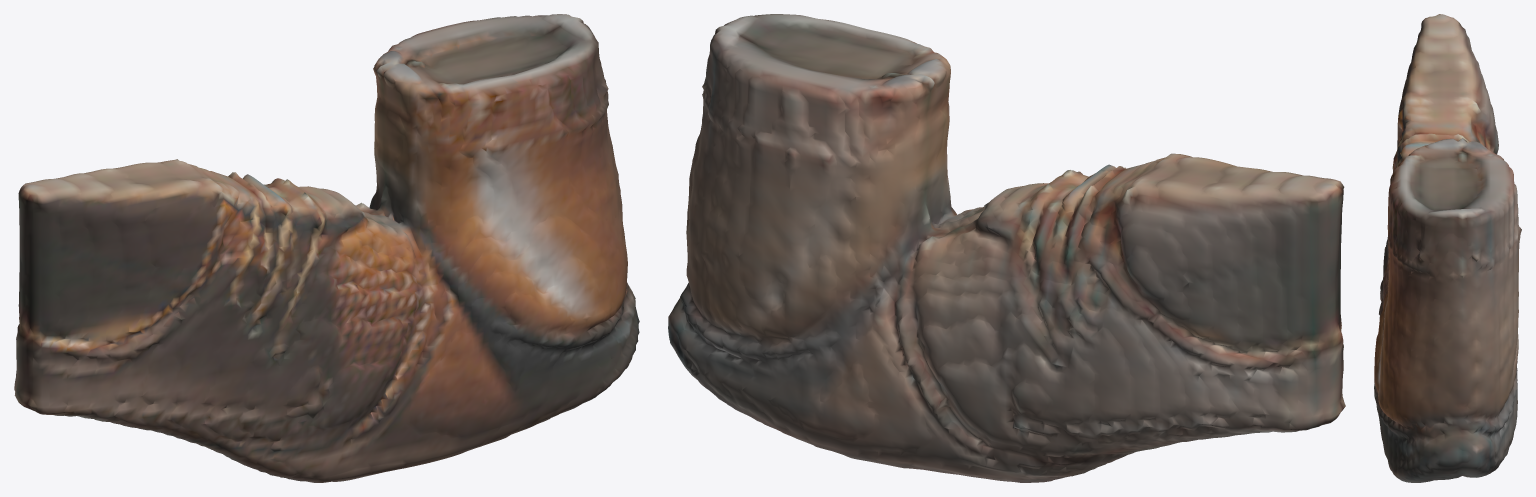
The model's file is art-008.glb.
3 views of the same model, side by side, from view 1: azimuth 30°, elevation 25°; view 2: azimuth 150°, elevation 25°; view 3: azimuth 270°, elevation 25° (orthographic). The views are drawn at different scales.
Visible parts, largest first — view 1: geometry_0; view 2: geometry_0; view 3: geometry_0.
Boxes of the visible parts, x1,y1,x2,y2 form: geometry_0: (14, 14, 639, 482); geometry_0: (668, 14, 1345, 482); geometry_0: (1374, 14, 1521, 482).
Size of the model in its own units: 1.1 by 0.6272 by 0.2876.
